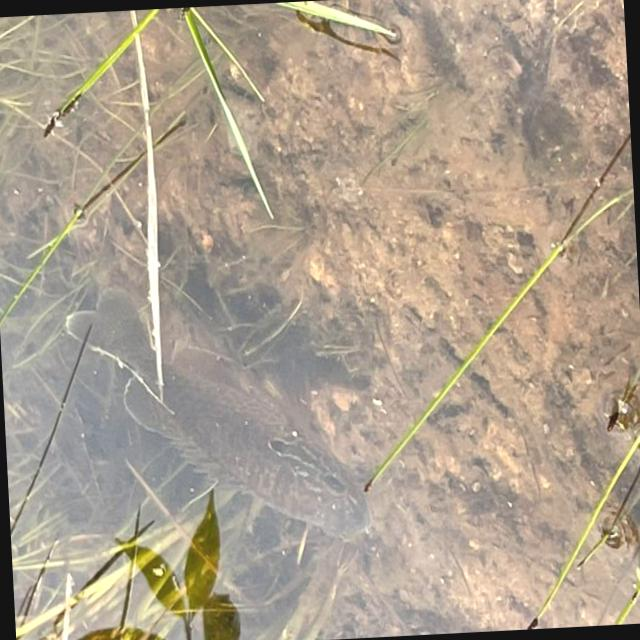Gunes Levregi: (54, 266, 380, 560)
